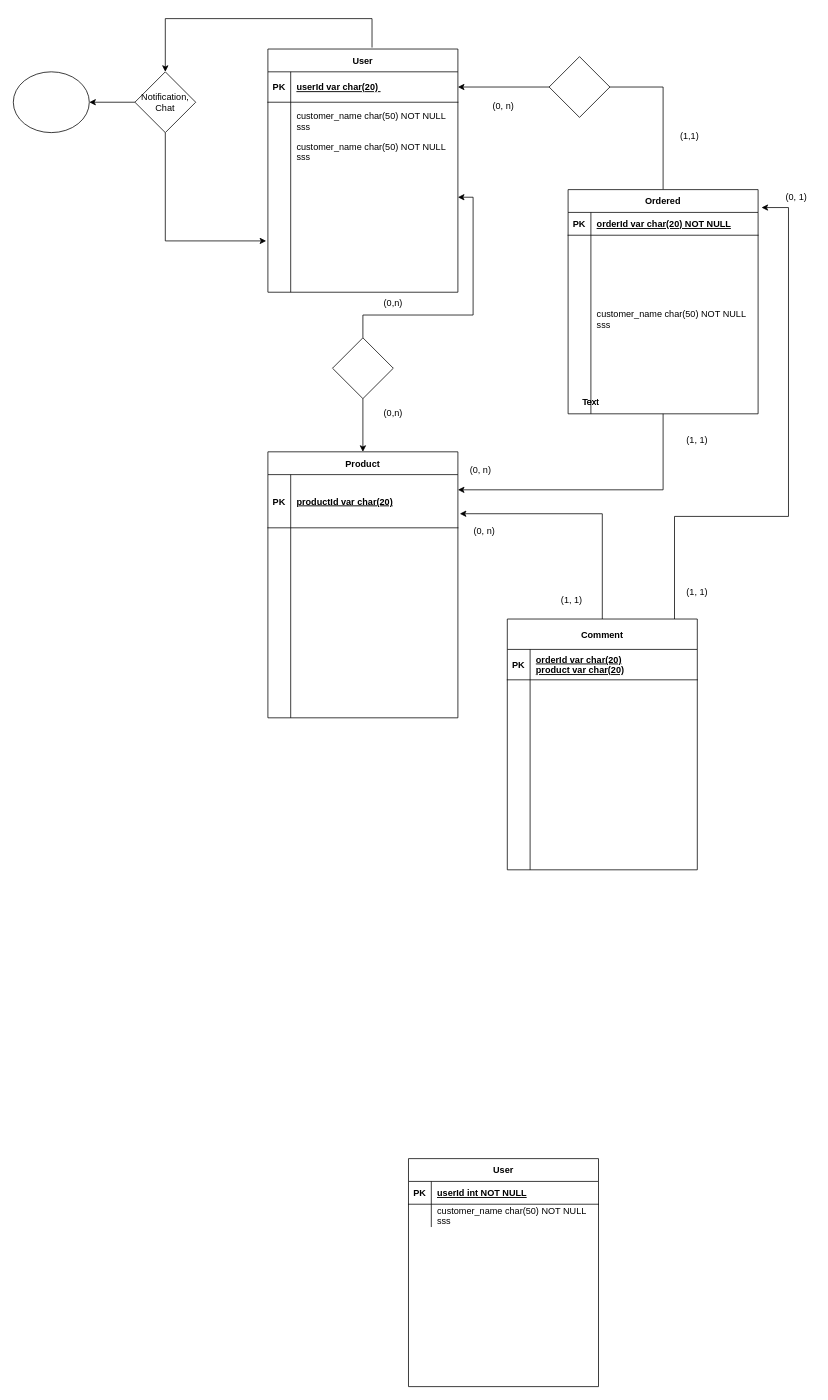
The diagram is 828 pixels wide and 1400 high, and some of its shapes have lost their labels. Here are the shapes that lost their labels. From the top down, the centre of each, then its label:
the point at 51,102: content
the point at 579,86: Được mua
the point at 362,368: Thêm vào giỏ
